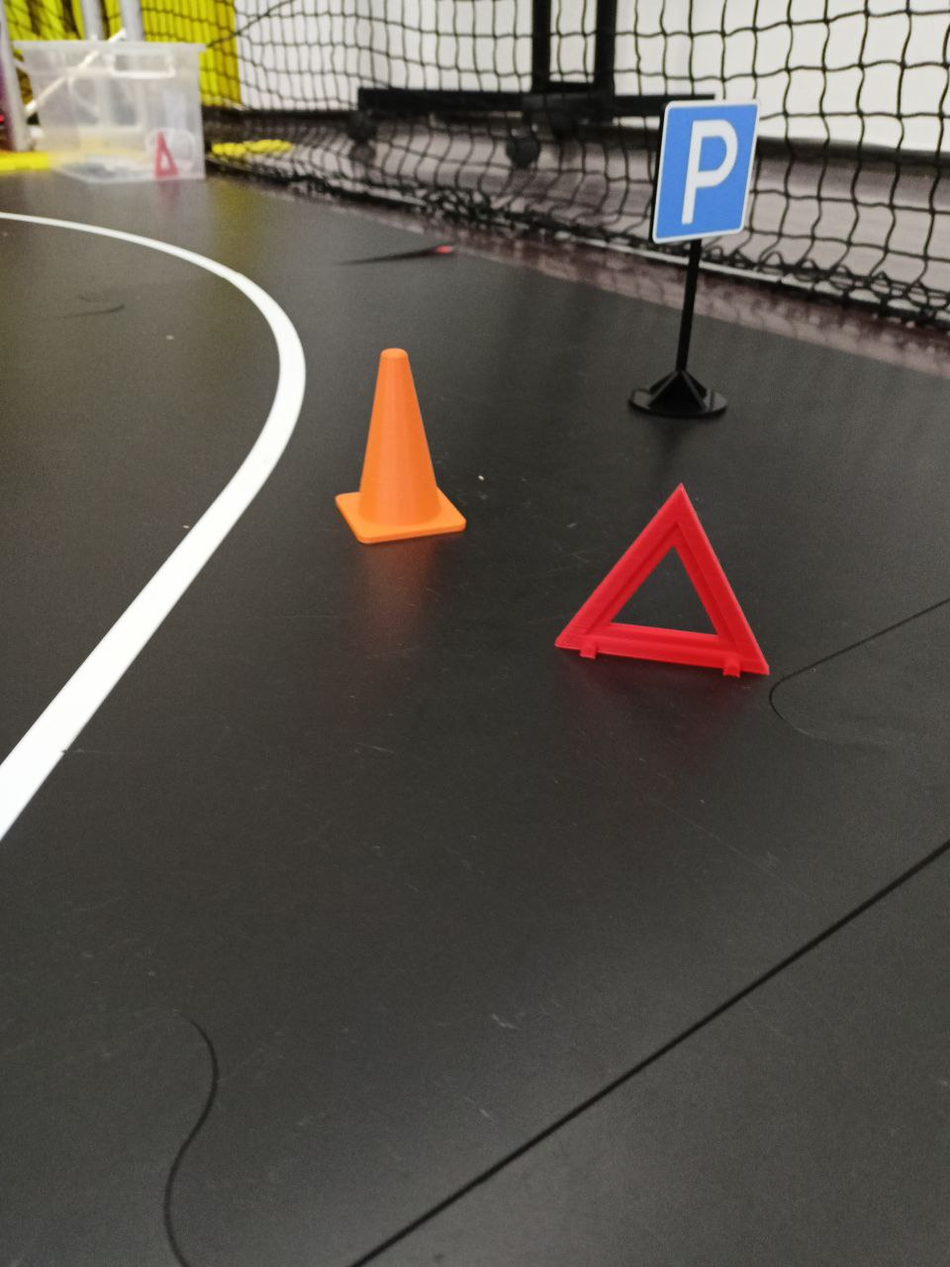Parking: (549, 454, 785, 703), (321, 319, 471, 564)
